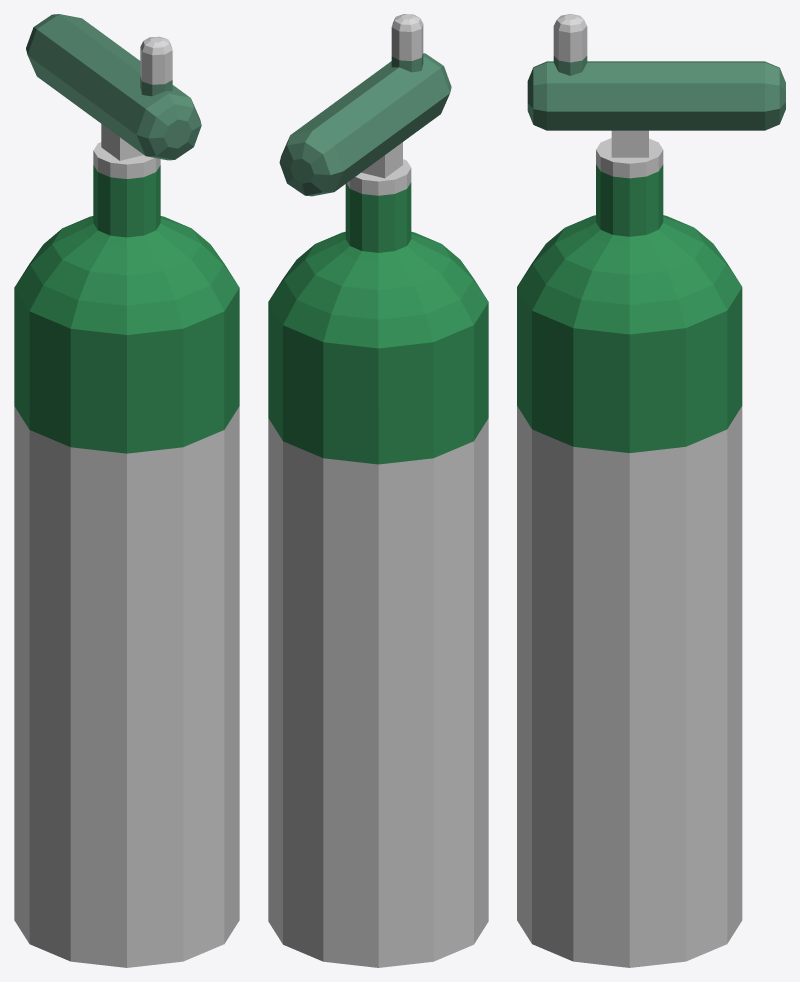
File: Combustible.fbx
The picture shows the model from 3 angles, left to right: view 1: azimuth 30°, elevation 25°; view 2: azimuth 150°, elevation 25°; view 3: azimuth 270°, elevation 25°; orthographic projection. The views are drawn at different scales.
Parts seen in each view (by area): view 1: Combustible; view 2: Combustible; view 3: Combustible.
Part boxes in pixels (x1,y1,x2,y2): Combustible: [14, 14, 239, 967]; Combustible: [268, 14, 488, 967]; Combustible: [517, 14, 785, 967].
Size of the model in its own units: 76.33 by 338 by 91.11.
